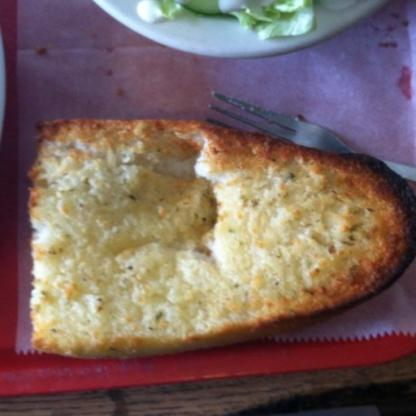toast bread: (32, 113, 415, 365)
